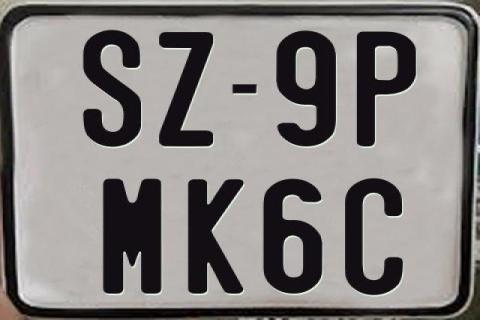0: (276, 29, 341, 149), (263, 177, 323, 293)
C: (343, 177, 407, 299)
K: (187, 179, 246, 295)
M: (102, 178, 162, 298)
P: (356, 31, 417, 148)
S: (81, 28, 140, 146)
Z: (159, 32, 215, 149)
